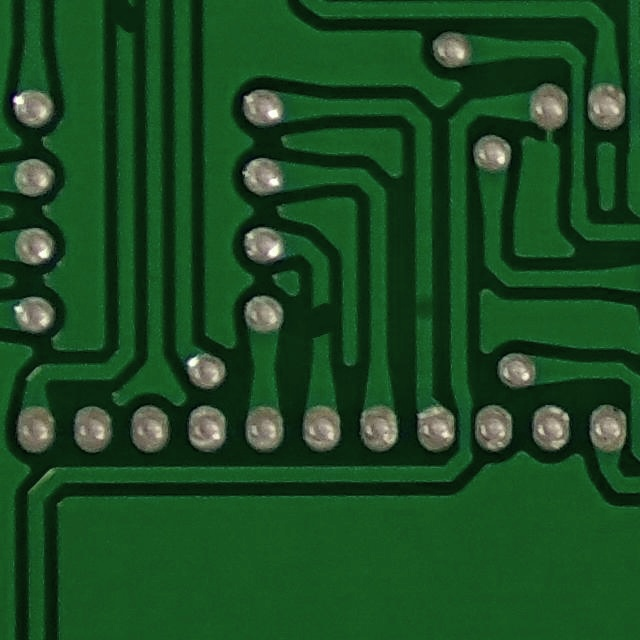open_circuit: (303, 293, 337, 347)
